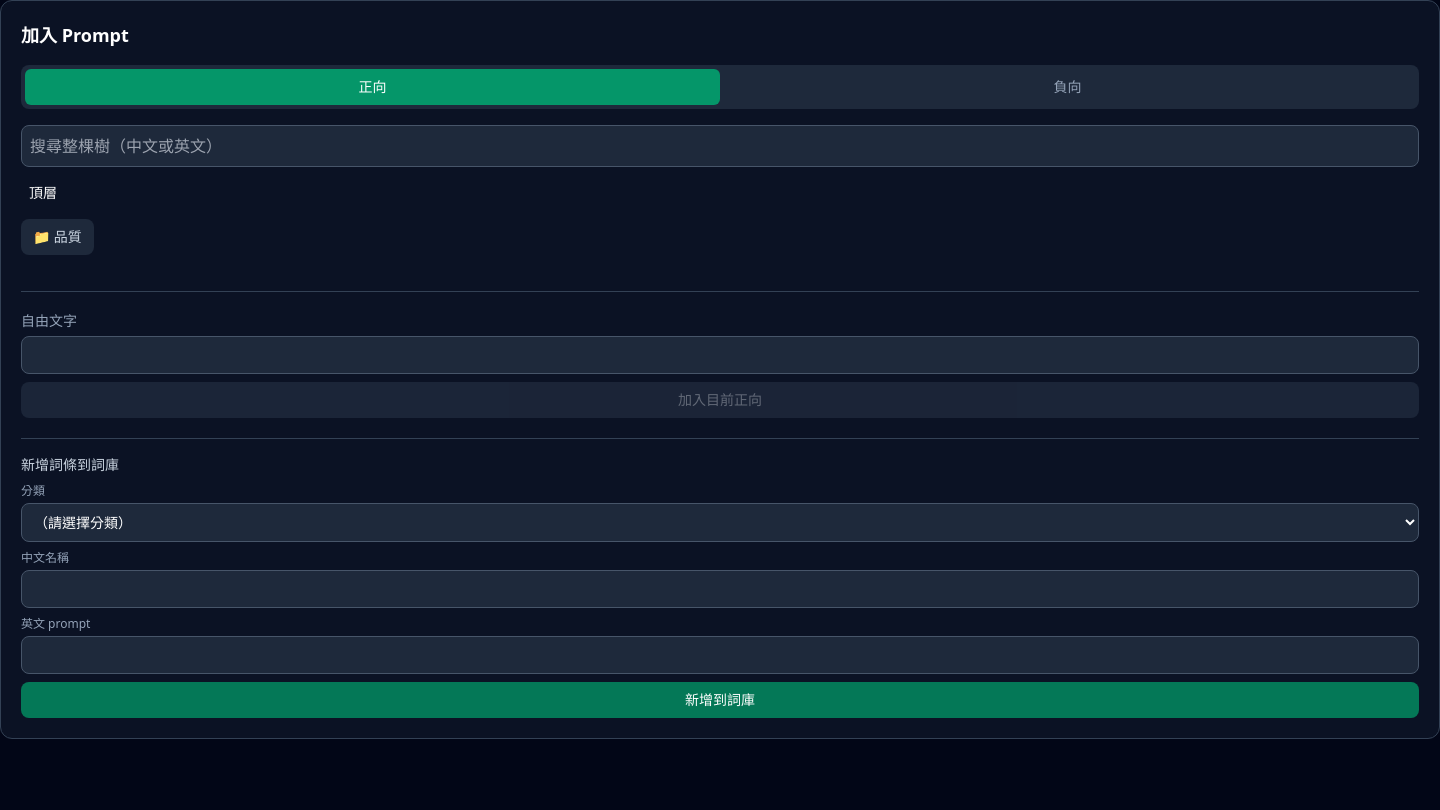
Test: PromptEntryBrowser read-only source catalog › filters source entries by Chinese name or prompt across the whole tree
The image size is (1440, 810).
Type "masterpiece" into the field named "搜尋提示詞" at (720, 146), box left=21, top=125, right=1419, bottom=167
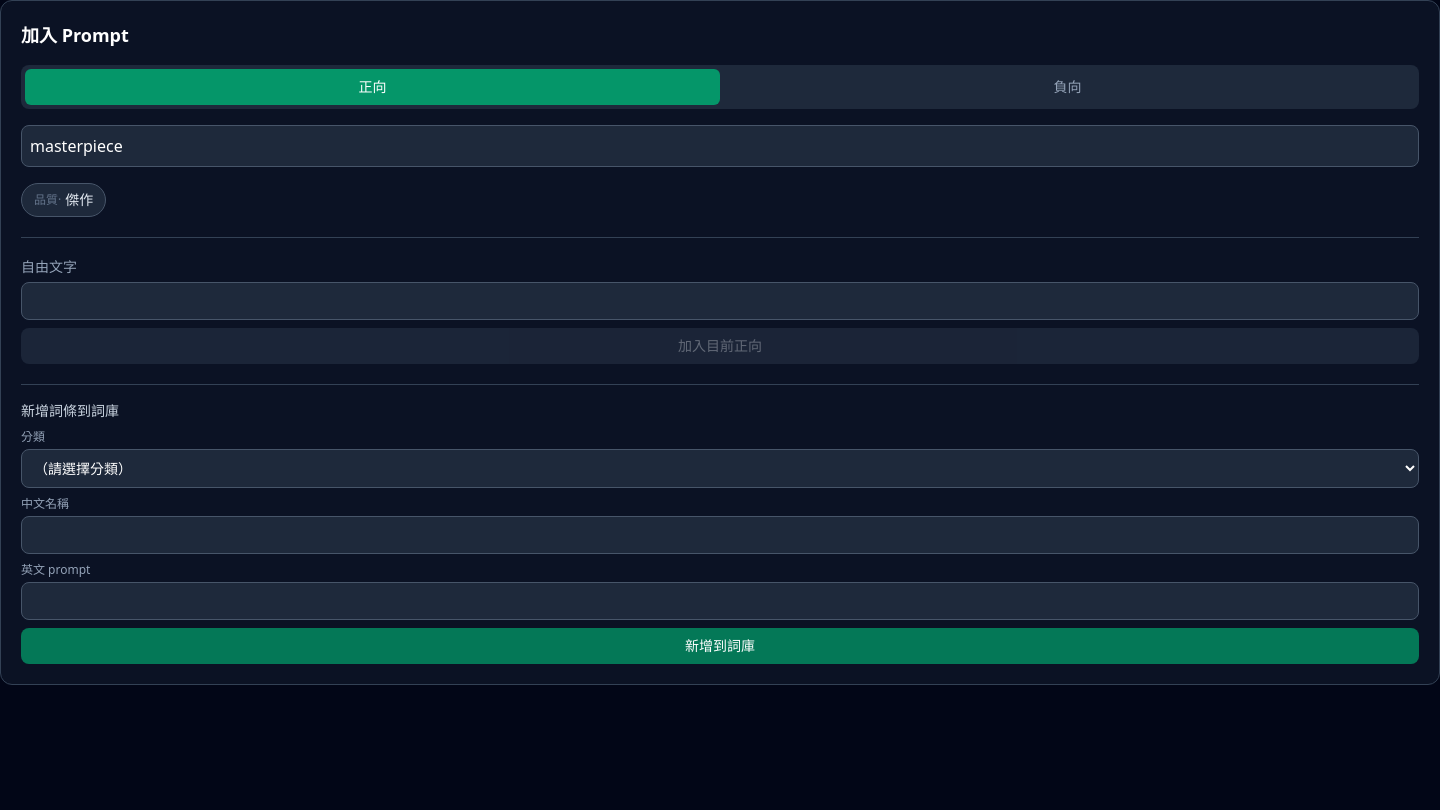
Now the button with aria-label "加入 傑作" is shown, box left=21, top=183, right=106, bottom=217
